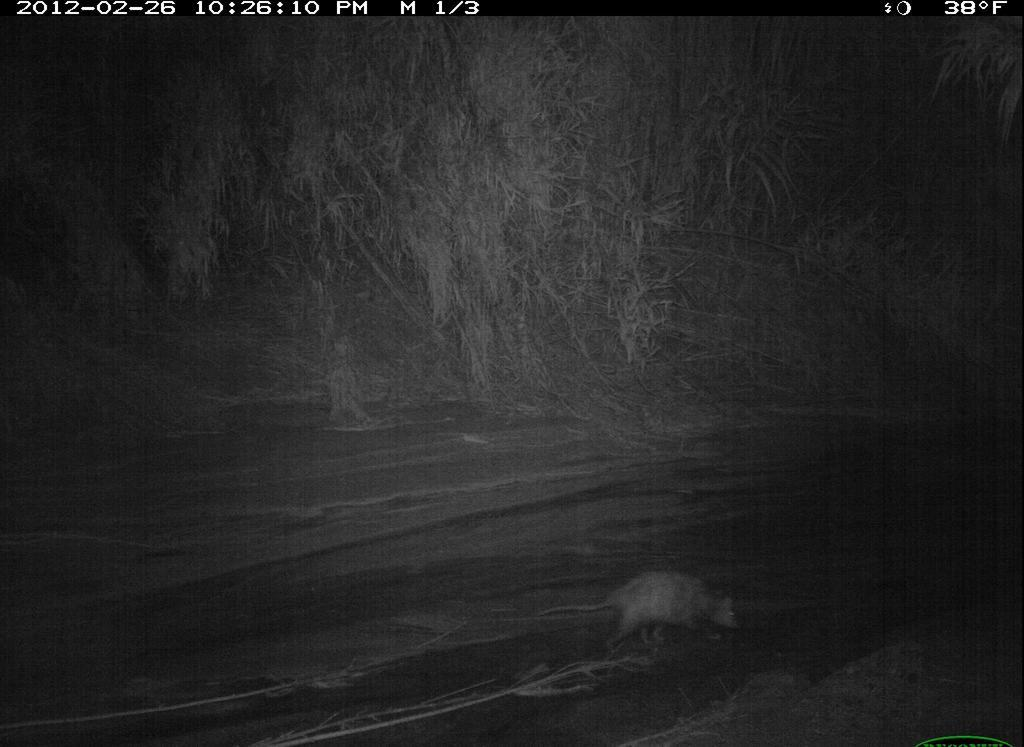opossum: (532, 568, 748, 662)
